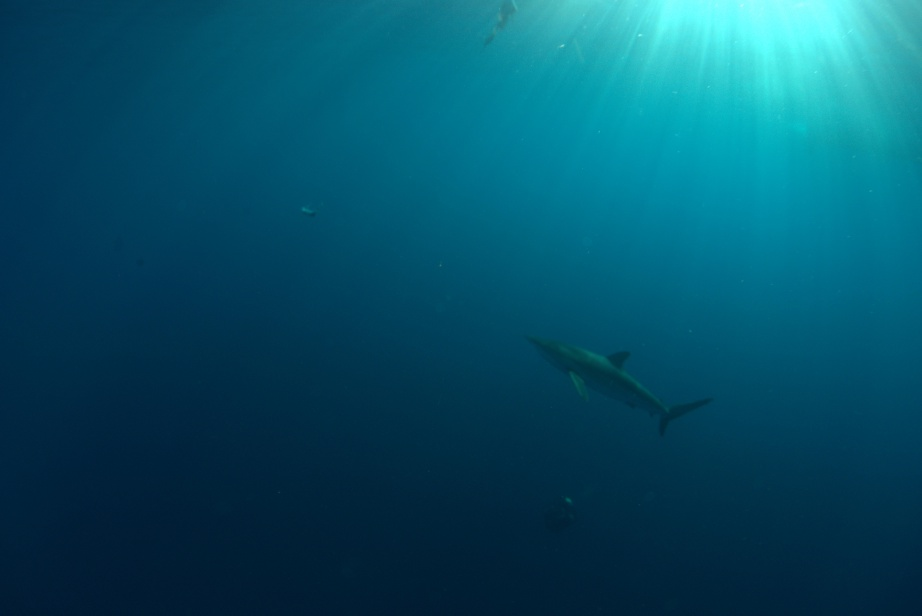Sedoso: (513, 324, 719, 442)
